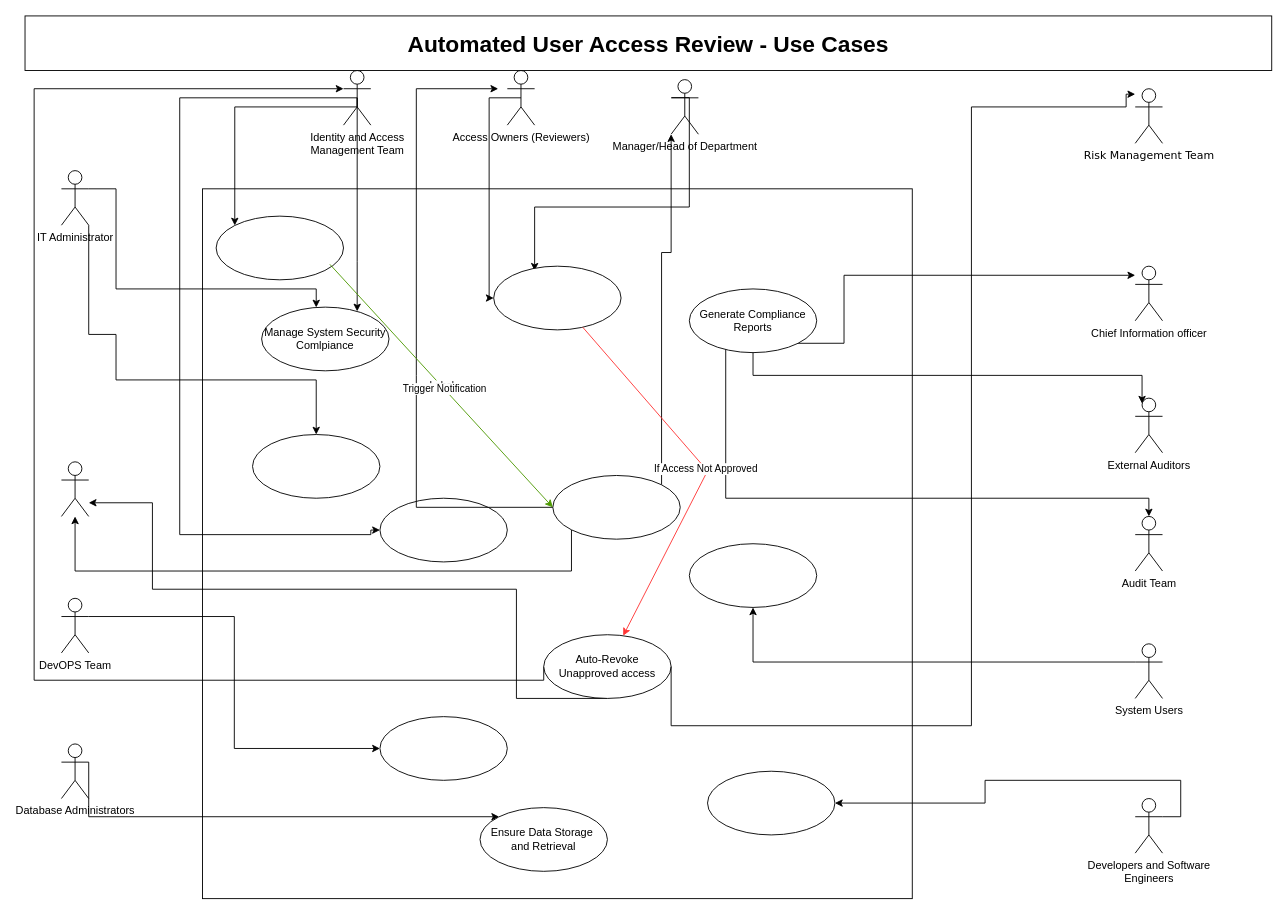
The diagram is 1288 pixels wide and 915 high, and some of its shapes have lost their labels. Here are the shapes that lost their labels. From the top down, the centre of each, then its label:
At [279,247]: "Schedule Access Review".
At [557,297]: "Approve or Reject Access".
At [316,466]: "Assign Reviewers".
At [75,488]: "End-Users".
At [616,507]: "Send Notifications and Reminders".
At [443,529]: "Integrate with IAM and Hr Systems".
At [752,575]: "Audit Logging and Monitoring".
At [443,748]: "Monitor and Optimize System performance".
At [771,802]: "Develop and Maintain System Automation".
